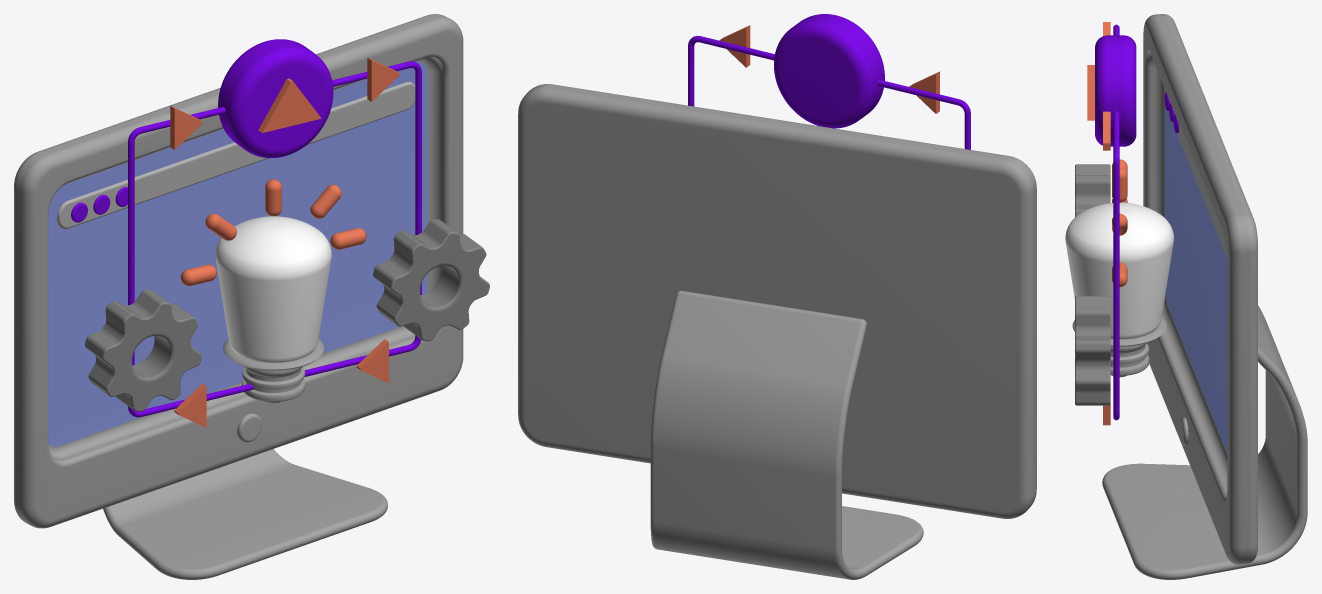
The model's file is reinforcement-learning-3d-animated-icon-1414544505342.glb.
3 views of the same model, side by side, from view 1: azimuth 30°, elevation 25°; view 2: azimuth 150°, elevation 25°; view 3: azimuth 270°, elevation 25° (orthographic). The views are drawn at different scales.
Parts seen in each view (by area): view 1: Cube.004, Plane.011, Cylinder.006, Cylinder.009, Cylinder.008, Cylinder.010, Plane.009, Plane, Cylinder.007, Cube, Cube.009, Cube.007 (+4 smaller); view 2: Cube.004, Plane.011, Cylinder.010, Plane; view 3: Cube.004, Plane.011, Cylinder.006, Cylinder.010, Cylinder.009, Plane, Cylinder.008, Cylinder.007, Plane.009, Cube, Cylinder.003.
Part boxes in pixels (left/top/right/bottom): Cube.004: left=14, top=14, right=463, bottom=528; Plane.011: left=103, top=449, right=387, bottom=579; Cylinder.006: left=215, top=216, right=331, bottom=362; Cylinder.009: left=373, top=219, right=489, bottom=341; Cylinder.008: left=85, top=289, right=201, bottom=411; Cylinder.010: left=218, top=39, right=333, bottom=157; Plane.009: left=57, top=81, right=415, bottom=228; Plane: left=128, top=61, right=421, bottom=417; Cylinder.007: left=223, top=339, right=323, bottom=403; Cube: left=258, top=78, right=321, bottom=132; Cube.009: left=367, top=57, right=399, bottom=101; Cube.007: left=170, top=106, right=202, bottom=149; Cube.004: left=518, top=84, right=1036, bottom=518; Plane.011: left=650, top=290, right=923, bottom=579; Cylinder.010: left=774, top=14, right=884, bottom=128; Plane: left=688, top=35, right=970, bottom=149; Cube.004: left=1143, top=14, right=1257, bottom=564; Plane.011: left=1102, top=305, right=1307, bottom=579; Cylinder.006: left=1065, top=202, right=1173, bottom=339; Cylinder.010: left=1095, top=35, right=1136, bottom=146; Cylinder.009: left=1075, top=296, right=1110, bottom=405; Plane: left=1113, top=24, right=1119, bottom=420; Cylinder.008: left=1075, top=164, right=1110, bottom=216; Cylinder.007: left=1072, top=317, right=1166, bottom=377; Plane.009: left=1165, top=89, right=1226, bottom=256; Cube: left=1087, top=65, right=1094, bottom=120; Cylinder.003: left=1112, top=168, right=1127, bottom=202.
Size of the model in its own units: 0.4115 by 0.4125 by 0.1892.
